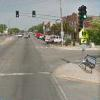Traffic light: (74, 3, 93, 28)
